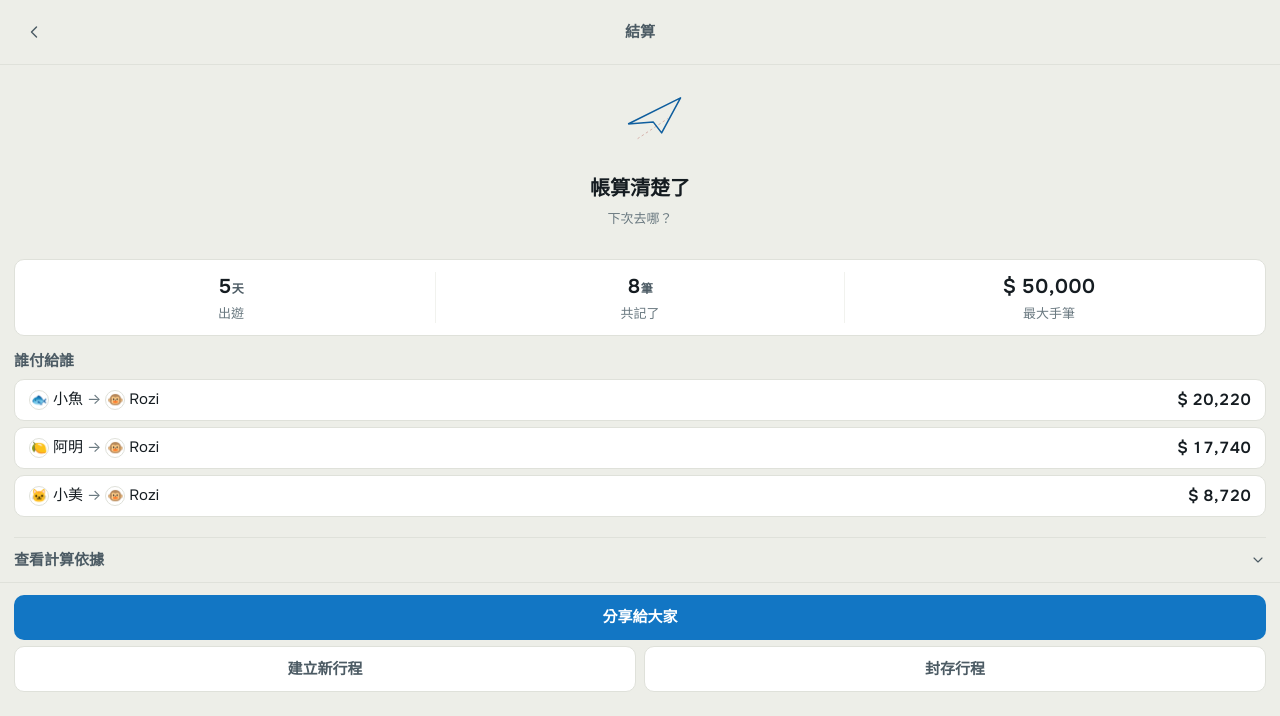
Test case: B-5　S-05 全員付清 › AH-1　全部付清也有「查看計算依據」，展開後每人一張卡
Expected: the text "結算" is shown, [625,21,655,43]
Expected: the text "誰付給誰" is shown, [14,351,74,371]
Click the button "查看計算依據" at (59, 560), box [14,536,1266,582]
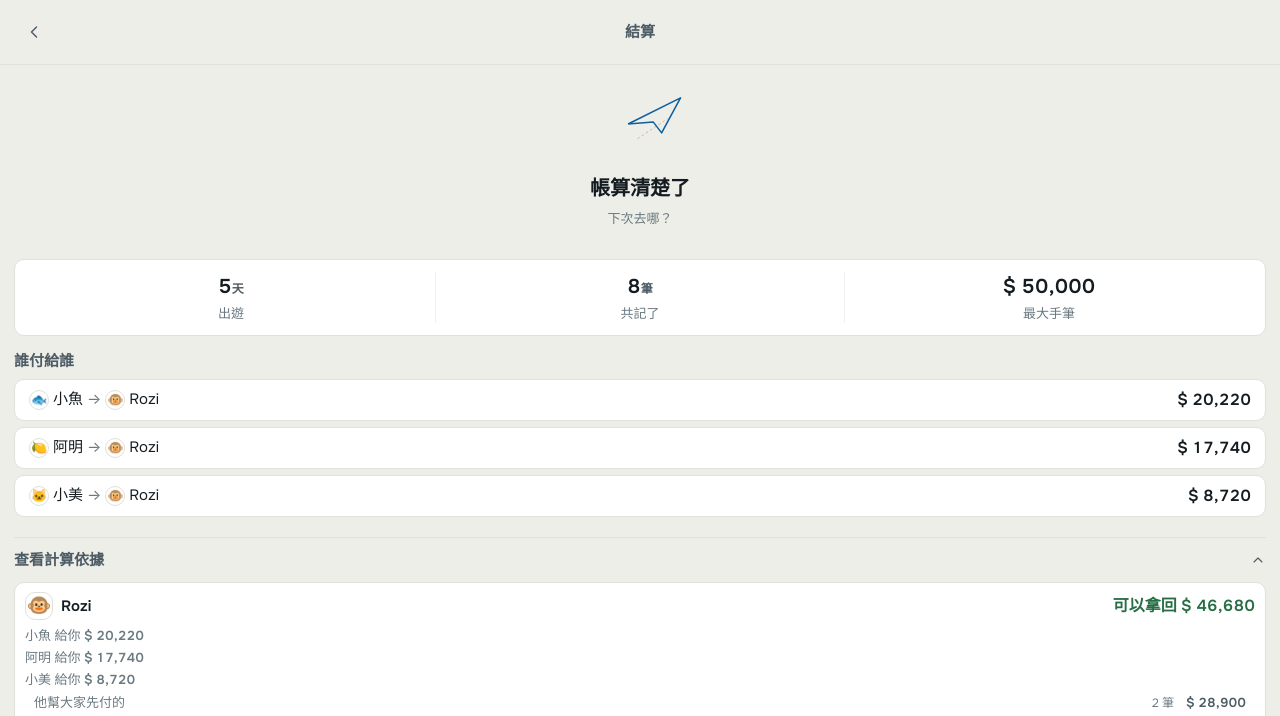
Expected: the number of elements with class "netcard" is 4
